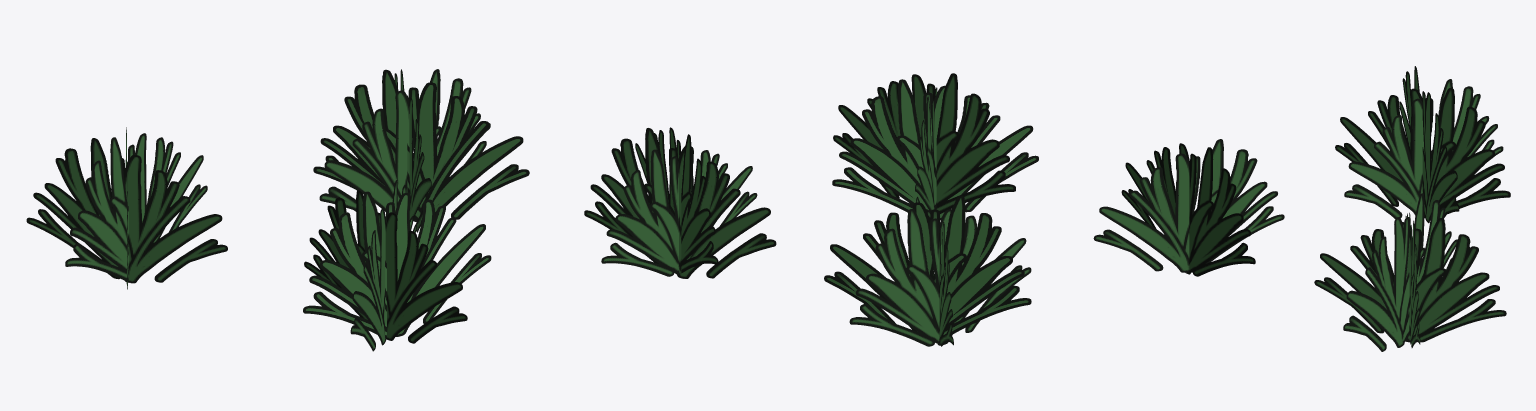
The model's file is grass1.fbx.
The picture shows the model from 3 angles, left to right: view 1: azimuth 30°, elevation 25°; view 2: azimuth 150°, elevation 25°; view 3: azimuth 270°, elevation 25°; orthographic projection. The views are drawn at different scales.
Parts seen in each view (by area): view 1: grass1; view 2: grass1; view 3: grass1.
Part boxes in pixels (box(x1,y1,x2,y2)): grass1: box(26, 69, 529, 351); grass1: box(584, 73, 1038, 346); grass1: box(1093, 66, 1510, 351).
Bounding box in the file's own units: 179 × 69.16 × 158.
